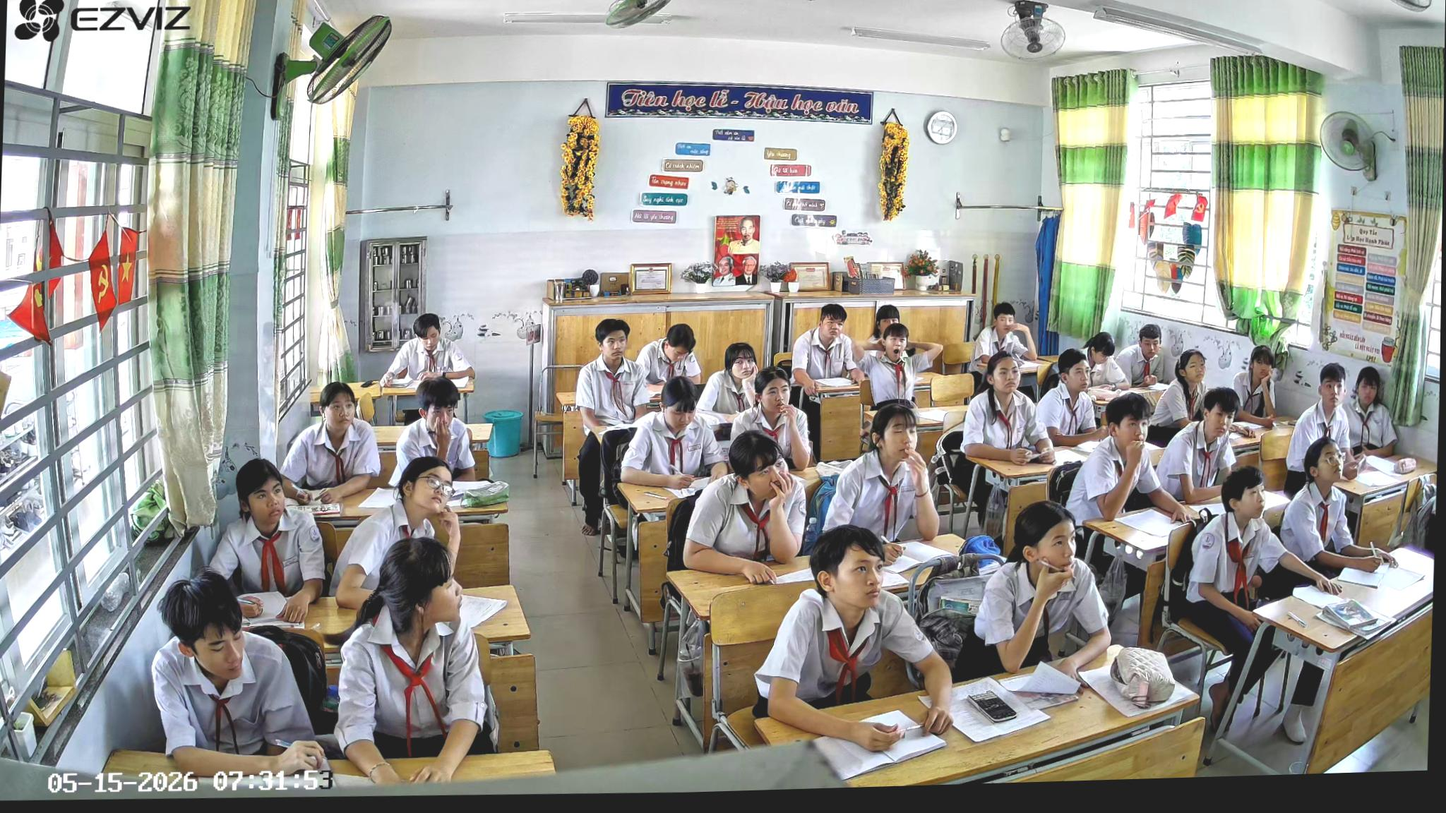person: (1177, 462, 1351, 751), (753, 519, 963, 757), (328, 533, 502, 790), (146, 566, 337, 782), (968, 498, 1117, 687), (200, 455, 330, 626), (681, 427, 811, 589), (820, 396, 944, 563), (333, 454, 465, 610), (953, 347, 1060, 539), (1063, 391, 1199, 541), (571, 316, 659, 538), (1277, 434, 1403, 579), (620, 373, 733, 493), (279, 379, 384, 508), (788, 301, 872, 449), (1284, 361, 1362, 499), (1155, 385, 1243, 506), (388, 374, 480, 489), (728, 366, 817, 474), (847, 321, 944, 413), (378, 310, 478, 391), (1341, 364, 1403, 479), (1033, 347, 1103, 446), (695, 341, 763, 440), (1231, 343, 1301, 437), (1145, 348, 1213, 444), (970, 300, 1040, 387), (634, 321, 705, 395), (1114, 323, 1172, 389), (1081, 330, 1132, 392), (864, 304, 902, 352)
